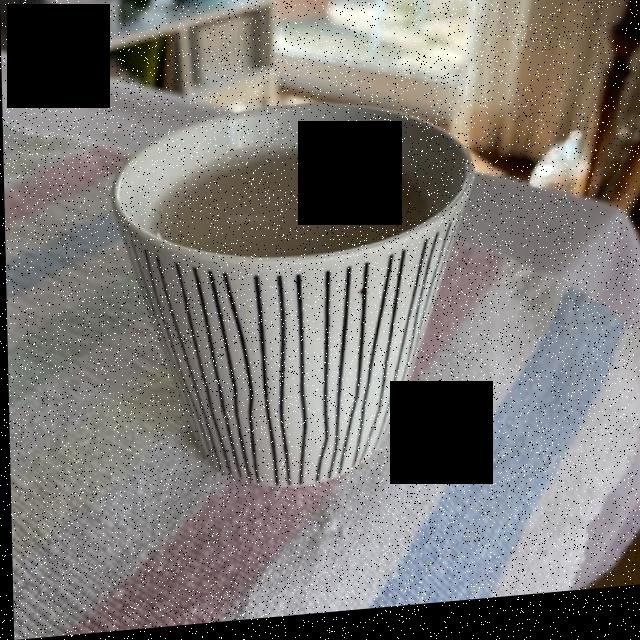tea-spice: (167, 155, 432, 259)
